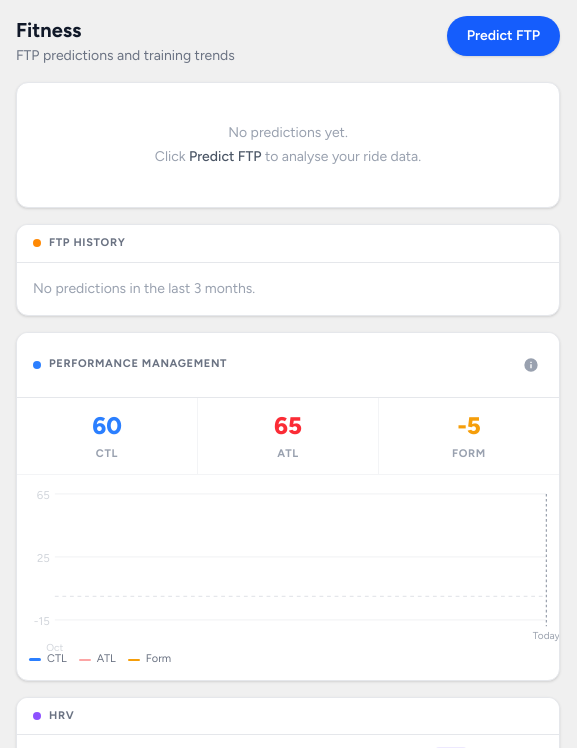
Test: FTP prediction confirm-before-save flow › shows a Save/Discard draft after predicting, without adding it to saved history
Step 1. Click the button "Predict FTP" → [503, 36], box [447, 16, 560, 56]
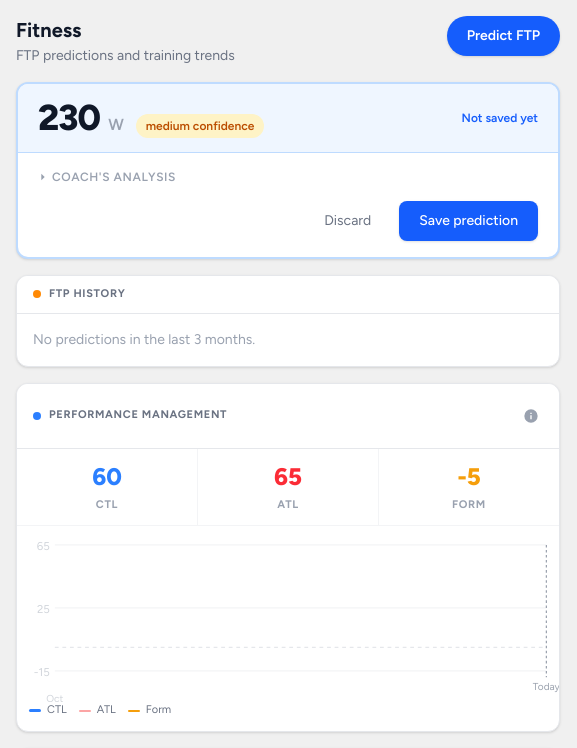
Result: the text "Not saved yet" is shown at [462, 110, 538, 126]
Result: the text "230" is shown at [38, 98, 100, 138]
Result: the button "Save prediction" is shown at [399, 201, 538, 241]
